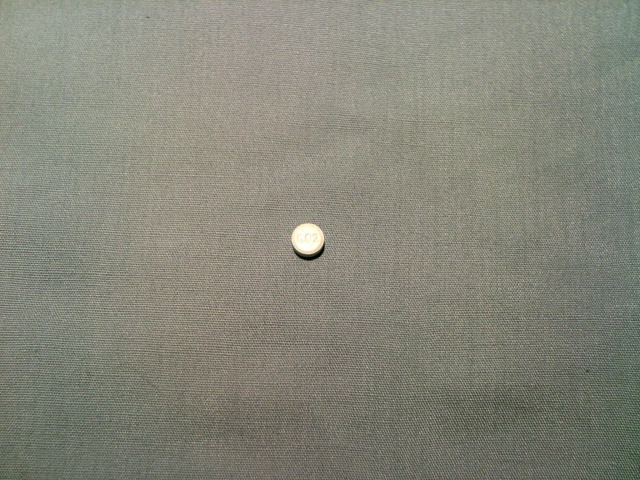0: (304, 233, 312, 244)
2: (312, 233, 320, 244)
G: (295, 232, 304, 244)
